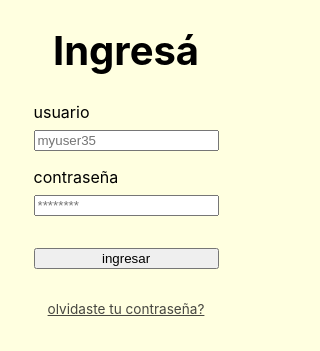
it: Login Form › correctly errors messages
Type "bad" into the field named "usuario" at point(126, 140), box [34,130,218,151]
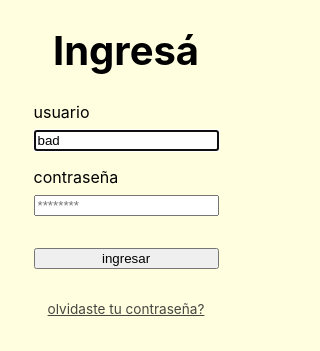
Type "123" into the password field named "contraseña" at point(126, 205), box [34,195,218,216]
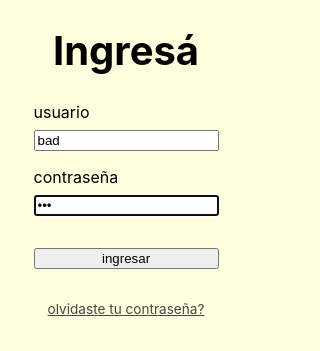
Click the button "ingresar" at point(126, 258), box [34,248,218,269]
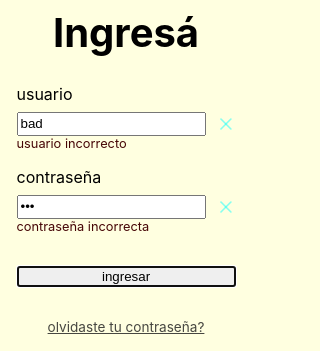
Result: the text "usuario incorrecto" is shown at [16,136,127,151]
Result: the text "contraseña incorrecta" is shown at [16,219,149,234]
Result: the 1st icon with test id "error-icon" is shown at [206,112,236,136]
